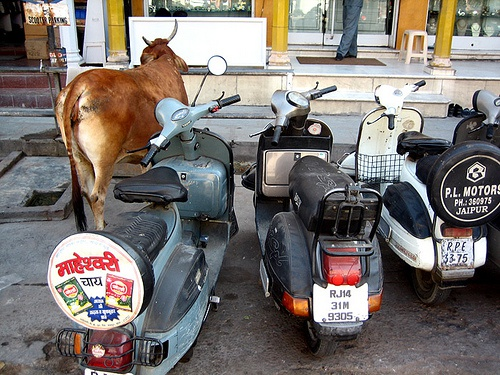non-vehicle: (44, 56, 241, 370), (246, 82, 389, 360), (340, 79, 487, 307), (452, 86, 500, 147)
